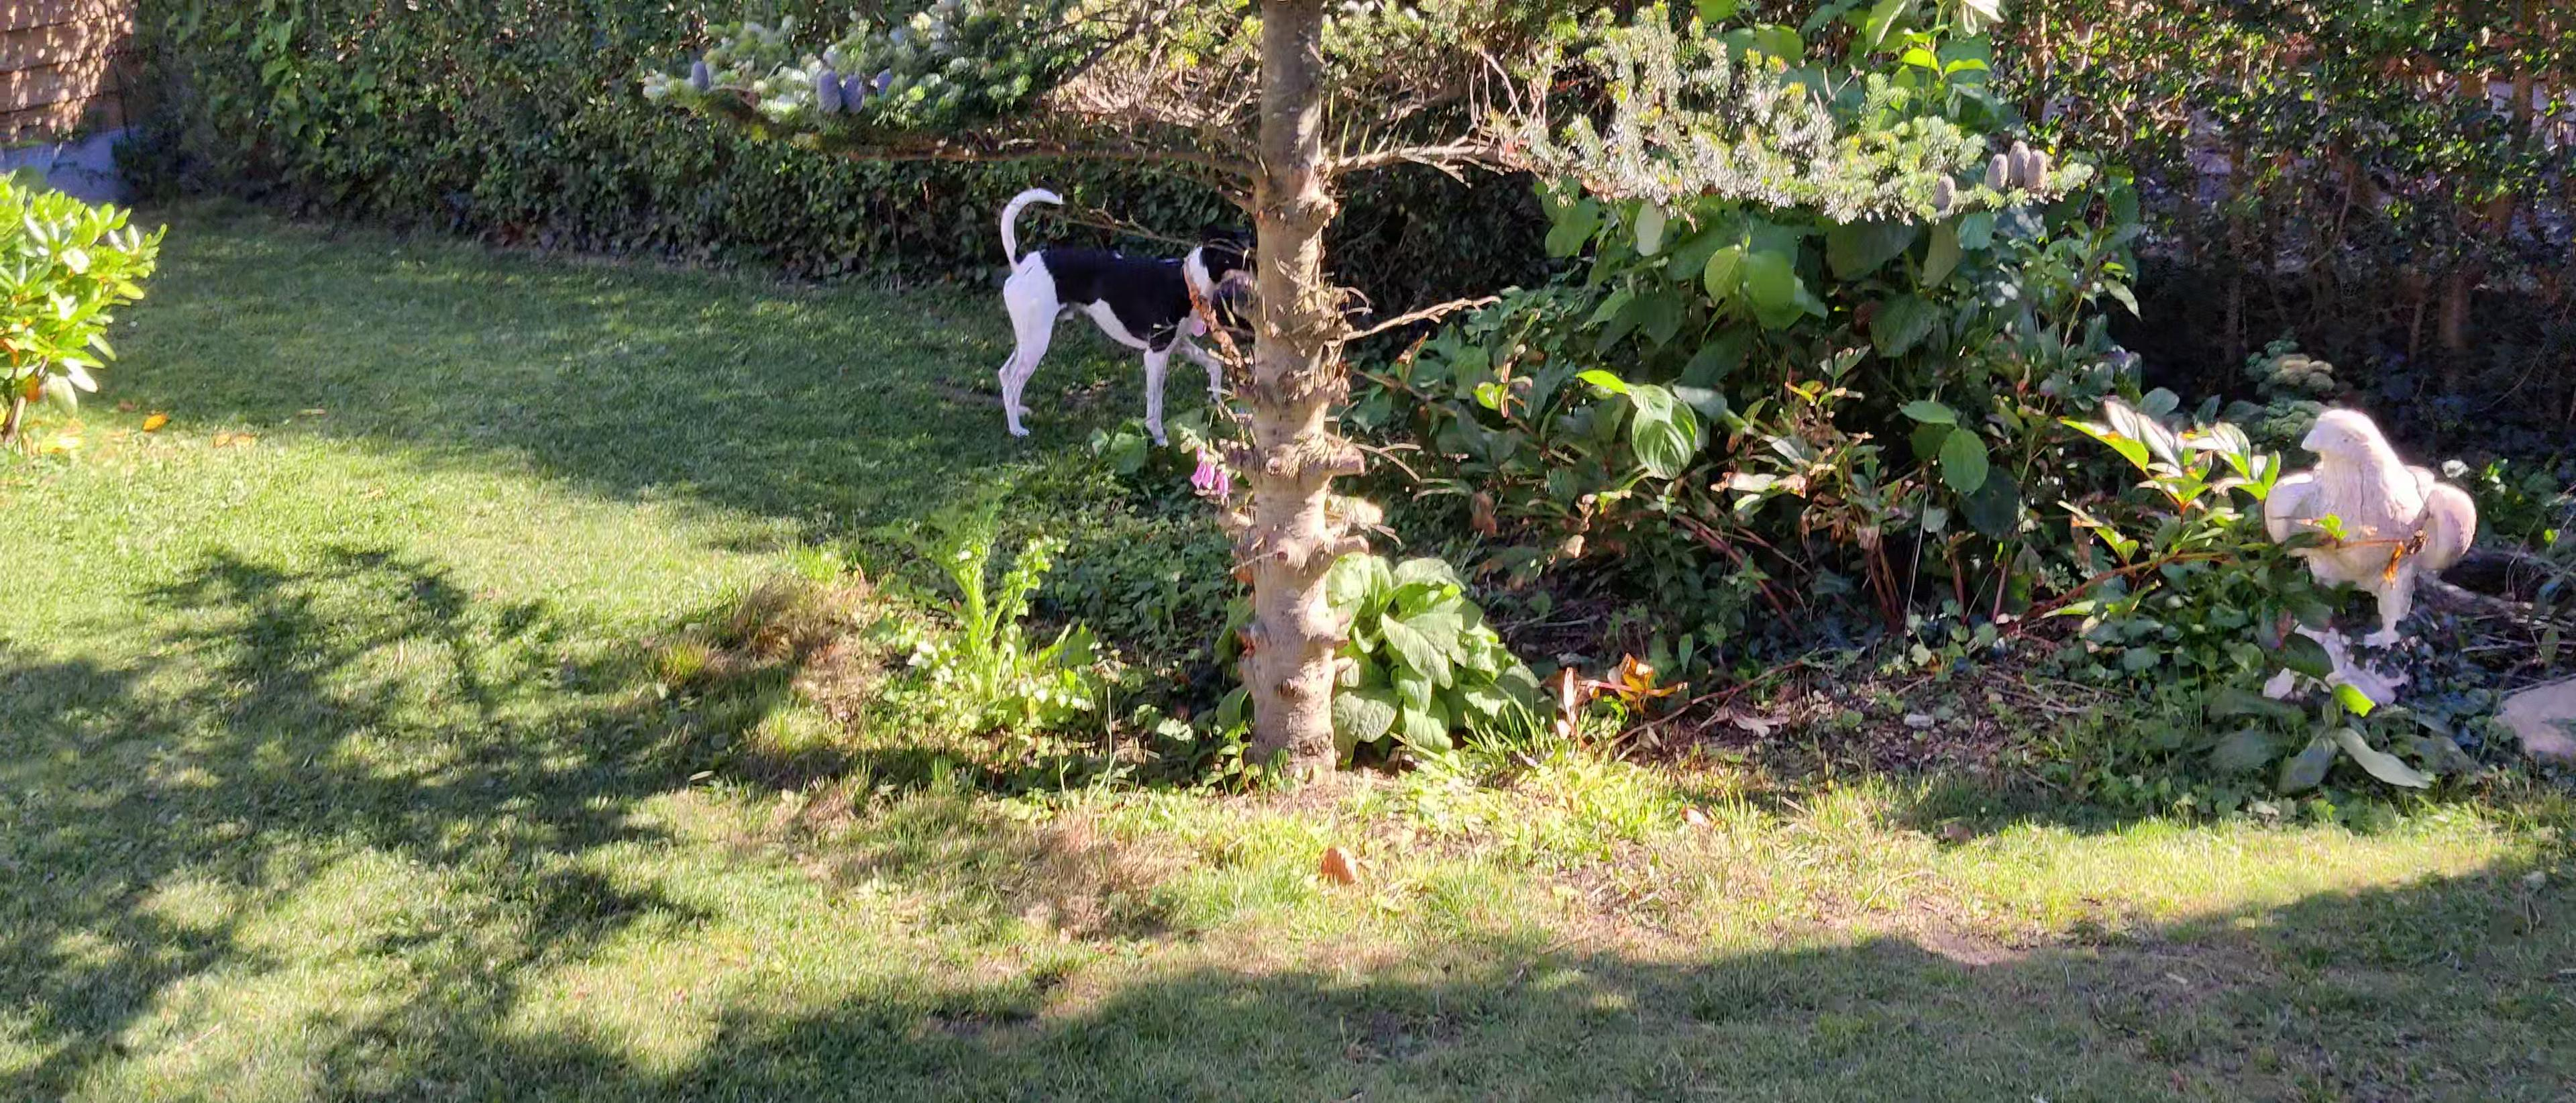Dog: (999, 187, 1257, 447)
